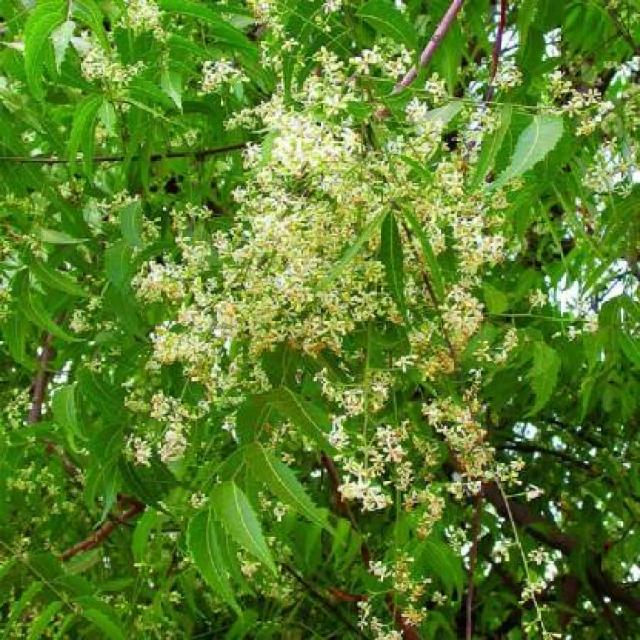Medicinal-Neem: (31, 18, 487, 583)
